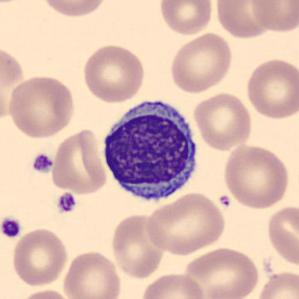Lymphocyte: (98, 93, 203, 208)
Platelets: (30, 152, 55, 175), (0, 215, 22, 240), (56, 191, 77, 215), (218, 194, 232, 209)
RBC: (143, 190, 228, 256), (221, 143, 292, 210), (5, 74, 76, 140), (168, 30, 234, 95), (182, 245, 261, 299), (49, 127, 109, 196), (81, 42, 147, 104), (109, 212, 167, 280), (192, 90, 254, 152), (10, 226, 70, 288), (244, 56, 298, 120), (60, 248, 123, 299), (214, 0, 284, 40), (0, 42, 29, 123), (265, 202, 299, 268), (157, 0, 214, 37), (139, 271, 207, 299), (248, 0, 298, 34), (37, 0, 111, 19), (254, 269, 298, 299), (17, 287, 75, 299)
